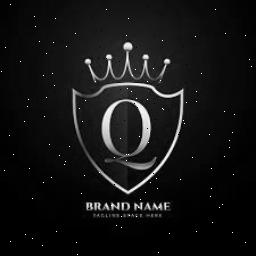q: (96, 94, 160, 172)
